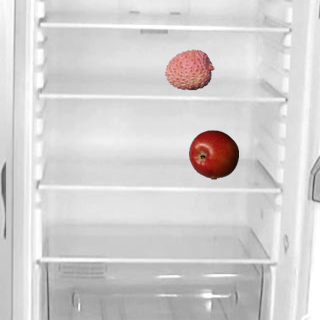Apple Braeburn: (188, 129, 238, 179)
Lychee: (164, 44, 214, 94)
